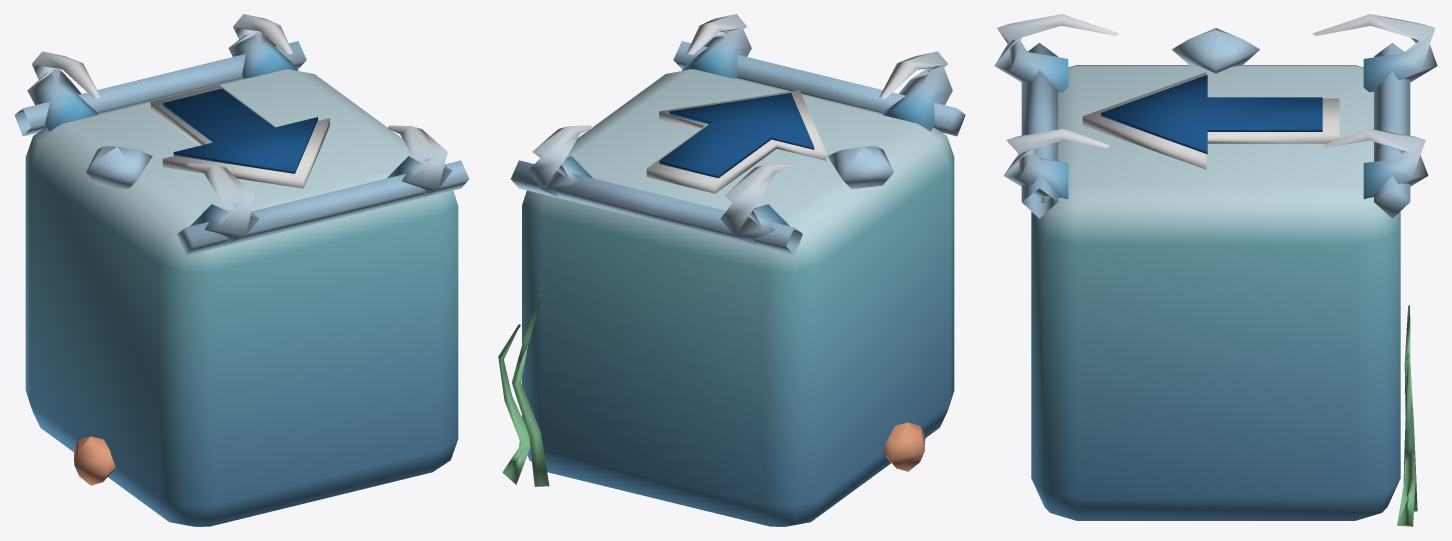
3 views of the same model, side by side, from view 1: azimuth 30°, elevation 25°; view 2: azimuth 150°, elevation 25°; view 3: azimuth 270°, elevation 25° (orthographic). The views are drawn at different scales.
Parts seen in each view (by area): view 1: su_lo; view 2: su_lo; view 3: su_lo.
Part boxes in pixels (x1=…): su_lo: x1=14, y1=14, x2=469, y2=526; su_lo: x1=498, y1=14, x2=965, y2=526; su_lo: x1=994, y1=14, x2=1437, y2=526.
Size of the model in its own units: 1 by 1.06 by 1.08.
